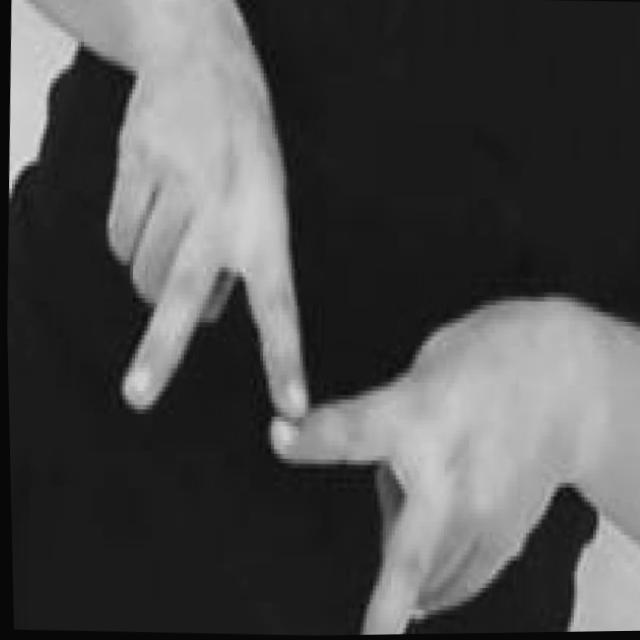M: (84, 49, 571, 639)
